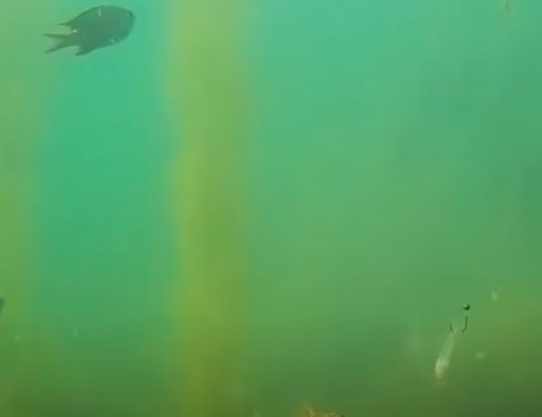smallfish: (33, 5, 133, 60)
